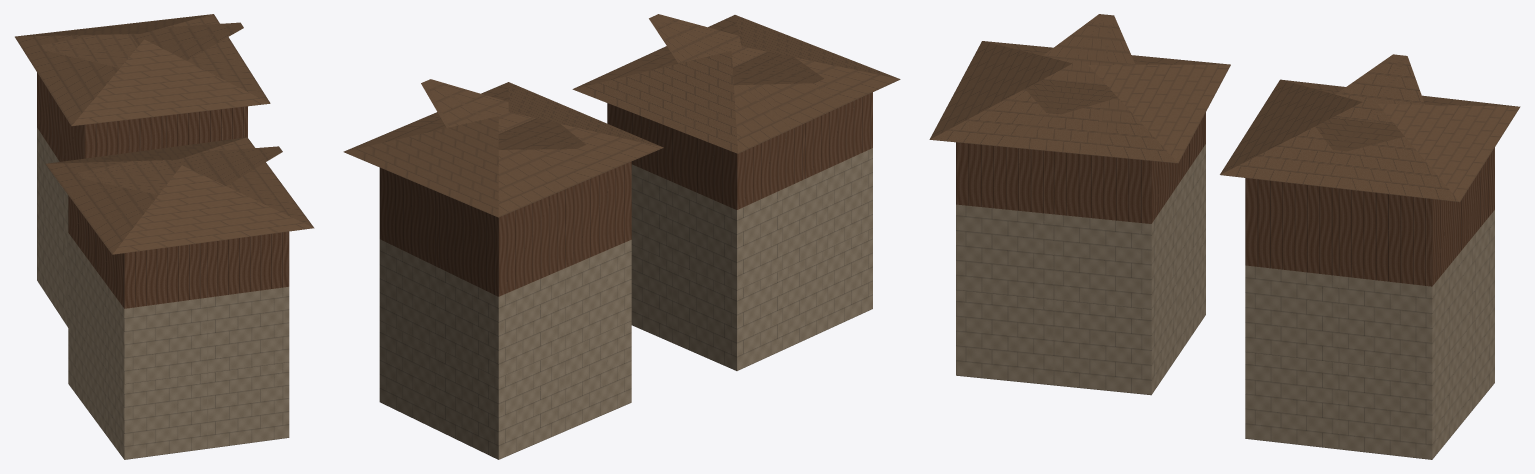
The model's file is bld_c0_-7_582.gltf.
3 views of the same model, side by side, from view 1: azimuth 30°, elevation 25°; view 2: azimuth 150°, elevation 25°; view 3: azimuth 270°, elevation 25° (orthographic). The views are drawn at different scales.
Visible parts, largest first — view 1: bld_c0_-7_582; view 2: bld_c0_-7_582; view 3: bld_c0_-7_582.
Part boxes in pixels (<box>): bld_c0_-7_582: <box>15,14,314,459</box>; bld_c0_-7_582: <box>343,14,900,459</box>; bld_c0_-7_582: <box>929,14,1520,459</box>.
Bounding box in the file's own units: 9.74 × 8.1 × 14.09.
Materials: 3 (3 with a texture image).
